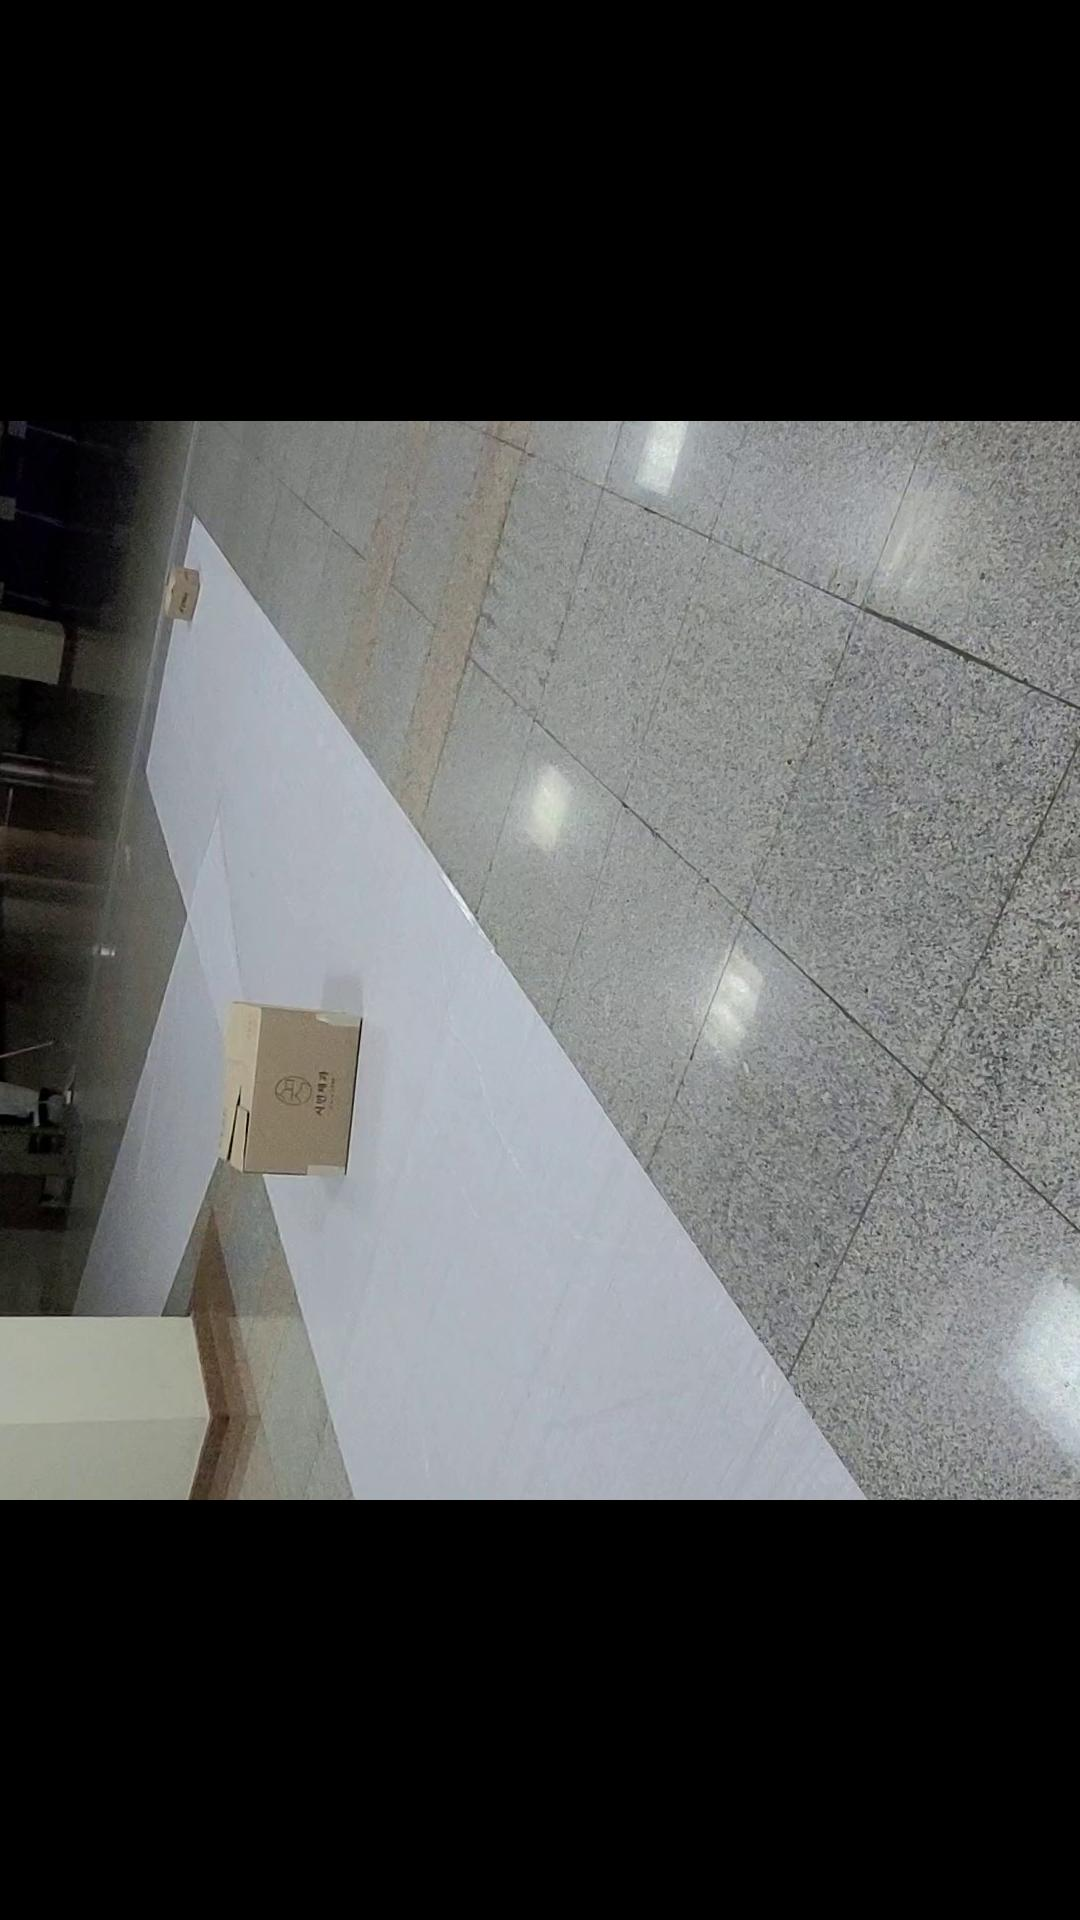Box: (190, 978, 382, 1197), (142, 549, 233, 642)
